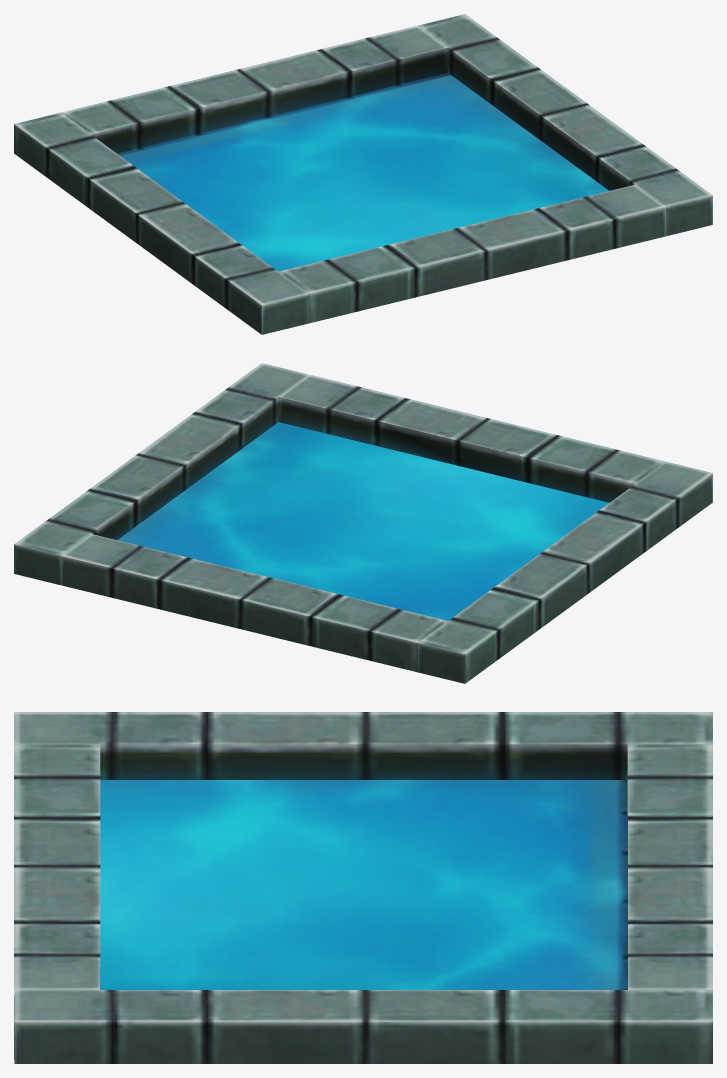
Rendered from shuichi01.FBX.
3 renders of one model, top to bottom at view 1: azimuth 30°, elevation 25°; view 2: azimuth 150°, elevation 25°; view 3: azimuth 270°, elevation 25°, orthographic. The views are drawn at different scales.
Visible parts, largest first — view 1: shuichi; view 2: shuichi; view 3: shuichi.
Part boxes in pixels (x1,y1,x2,y2): shuichi: (14,14,712,334); shuichi: (14,363,712,683); shuichi: (14,712,712,1063).
Size of the model in its own units: 161 by 10.05 by 154.
